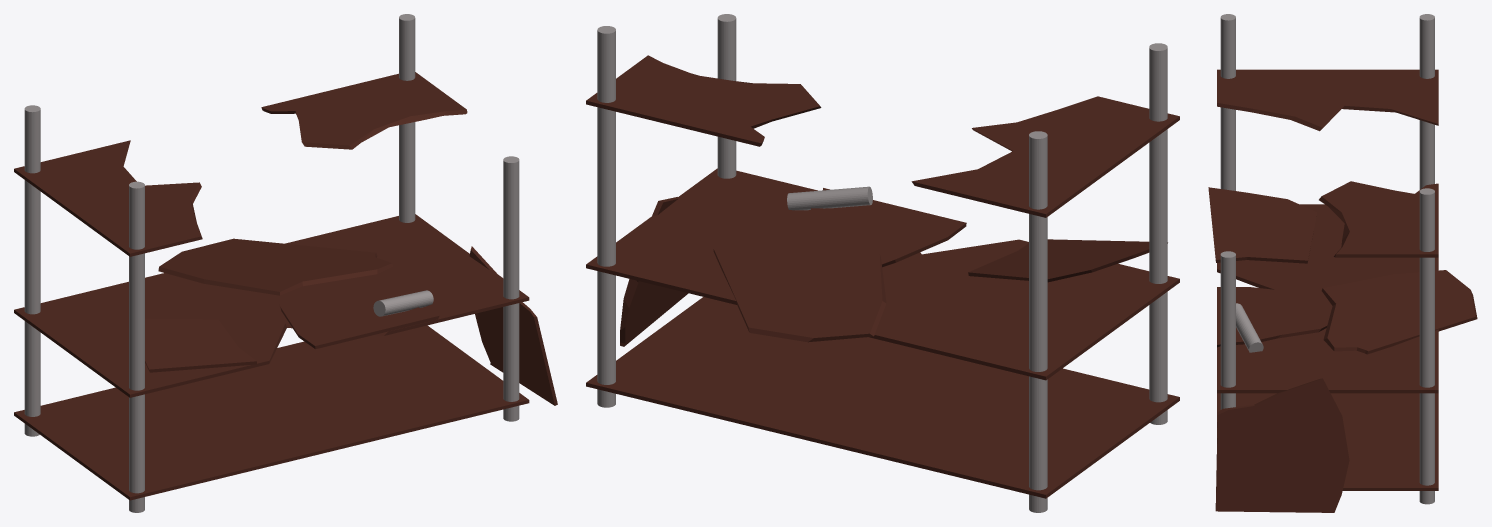
File: storage_damage.fbx
3 renders of one model, left to right at view 1: azimuth 30°, elevation 25°; view 2: azimuth 150°, elevation 25°; view 3: azimuth 270°, elevation 25°, orthographic. The views are drawn at different scales.
Visible parts, largest first — view 1: Cylinder.002; view 2: Cylinder.002; view 3: Cylinder.002.
Boxes of the visible parts, left/top/right/bottom form: Cylinder.002: left=14, top=14, right=557, bottom=512; Cylinder.002: left=586, top=14, right=1179, bottom=512; Cylinder.002: left=1208, top=14, right=1477, bottom=512.
Size of the model in its own units: 1143 by 829 by 654.
